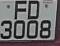0: (25, 18, 40, 41), (12, 19, 27, 41)
8: (39, 18, 53, 41)
D: (26, 2, 43, 20)
F: (13, 1, 29, 20)
